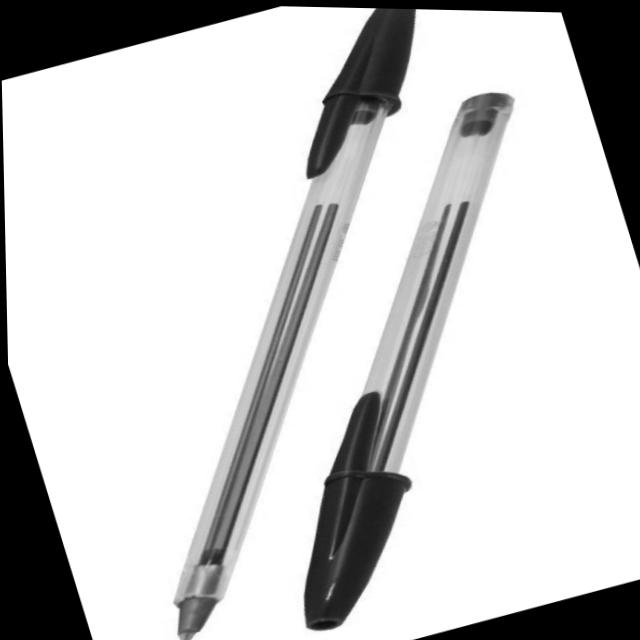pen: (4, 0, 640, 640)
